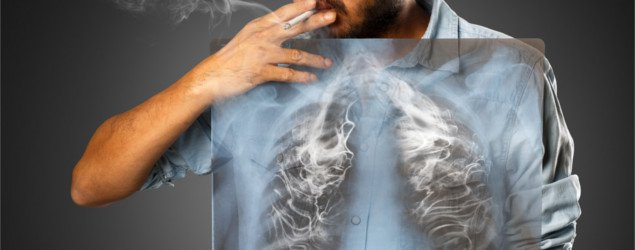cigarette: (282, 6, 327, 31)
